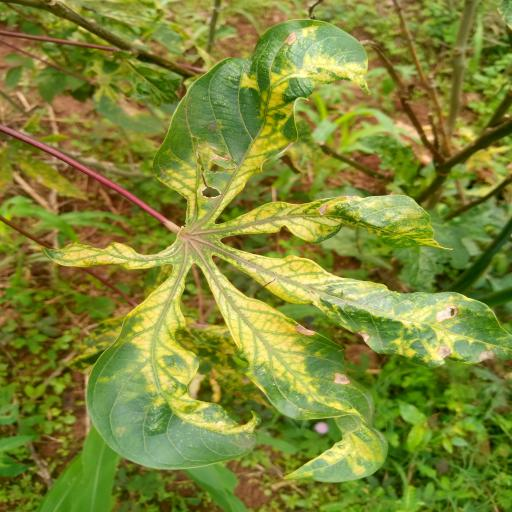Cassava_Mosaic: (34, 23, 512, 490)
